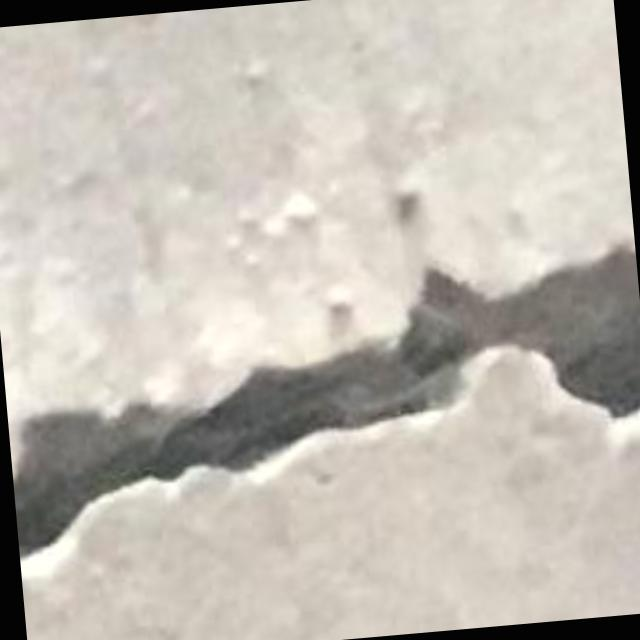crack: (12, 244, 639, 555)
